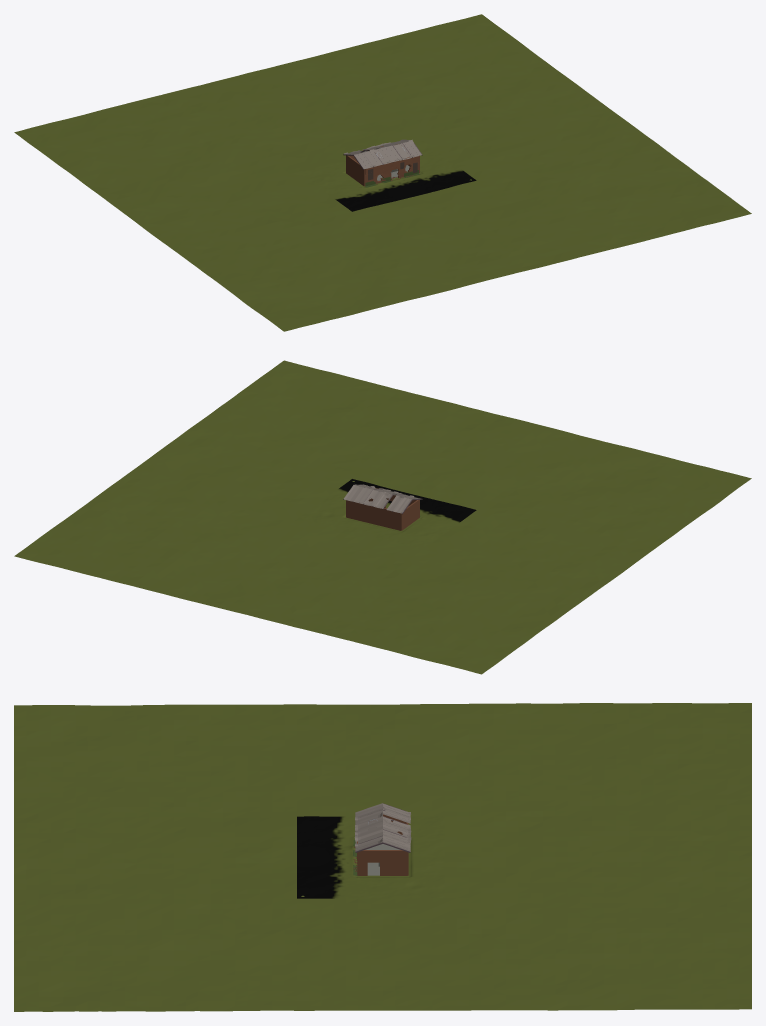
The model's file is decal-test.glb.
The picture shows the model from 3 angles, top to bottom: view 1: azimuth 30°, elevation 25°; view 2: azimuth 150°, elevation 25°; view 3: azimuth 270°, elevation 25°; orthographic projection. The views are drawn at different scales.
Parts seen in each view (by area): view 1: far_ground_east, far_ground_west, far_ground_north, far_ground_south, yard, roof_south, south_wall; view 2: far_ground_east, far_ground_west, far_ground_north, far_ground_south, yard, north_wall, roof_north; view 3: far_ground_east, far_ground_west, far_ground_north, far_ground_south, yard, roof_north, roof_south, east_wall_002.
Boxes of the visible parts, x1,y1,x2,y2 form: far_ground_east: [303, 14, 751, 259]; far_ground_west: [14, 87, 462, 331]; far_ground_north: [194, 59, 414, 169]; far_ground_south: [360, 182, 571, 286]; yard: [298, 140, 476, 211]; roof_south: [354, 139, 419, 168]; south_wall: [364, 156, 419, 186]; far_ground_east: [14, 360, 462, 601]; far_ground_west: [303, 433, 751, 674]; far_ground_north: [194, 520, 414, 628]; far_ground_south: [360, 406, 572, 507]; yard: [298, 479, 476, 549]; north_wall: [346, 500, 401, 530]; roof_north: [344, 485, 411, 512]; far_ground_east: [14, 892, 751, 1011]; far_ground_west: [14, 703, 751, 823]; far_ground_north: [438, 820, 751, 892]; far_ground_south: [14, 821, 296, 894]; yard: [297, 816, 444, 898]; roof_north: [382, 803, 411, 850]; roof_south: [354, 803, 382, 850]; east_wall_002: [358, 850, 407, 862].
Size of the model in its own units: 120 by 7.32 by 120.
